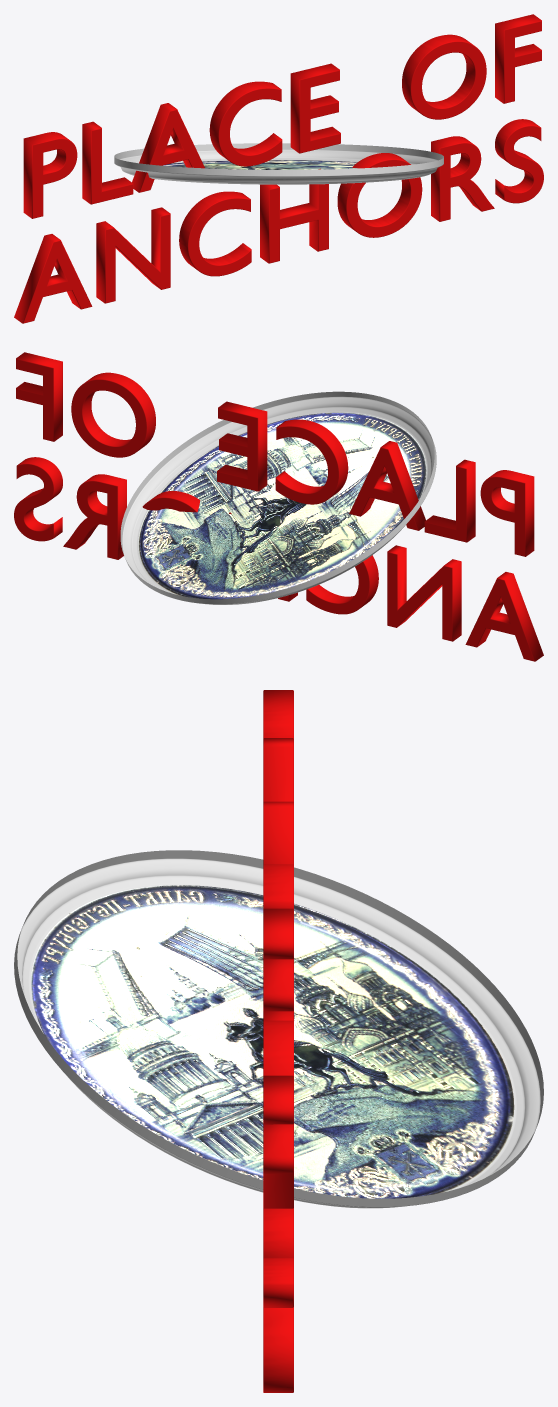
File: Mirror_anim_v4.glb
3 renders of one model, top to bottom at view 1: azimuth 30°, elevation 25°; view 2: azimuth 150°, elevation 25°; view 3: azimuth 270°, elevation 25°, orthographic. The views are drawn at different scales.
Parts seen in each view (by area): view 1: Text, Cylinder.001; view 2: Cylinder.001, Text; view 3: Cylinder.001, Text.
Boxes of the visible parts, bbox=[...] form: Text: bbox=[14, 14, 543, 323]; Cylinder.001: bbox=[114, 143, 443, 184]; Cylinder.001: bbox=[120, 391, 436, 604]; Text: bbox=[14, 352, 543, 661]; Cylinder.001: bbox=[14, 850, 543, 1208]; Text: bbox=[263, 690, 293, 1392].
Bounding box in the file's own units: 1.28 × 0.4179 × 0.6719.
Materials: 3 (1 with a texture image).
